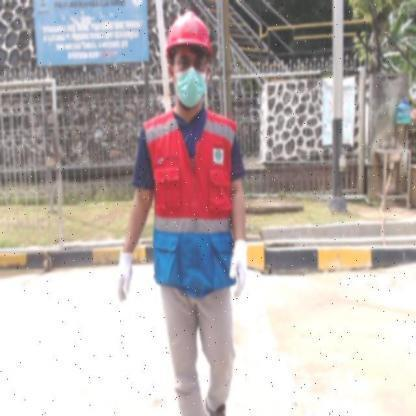gloves: (228, 235, 249, 300), (115, 250, 135, 306)
helmet: (164, 7, 216, 54)
mask: (172, 69, 210, 108)
